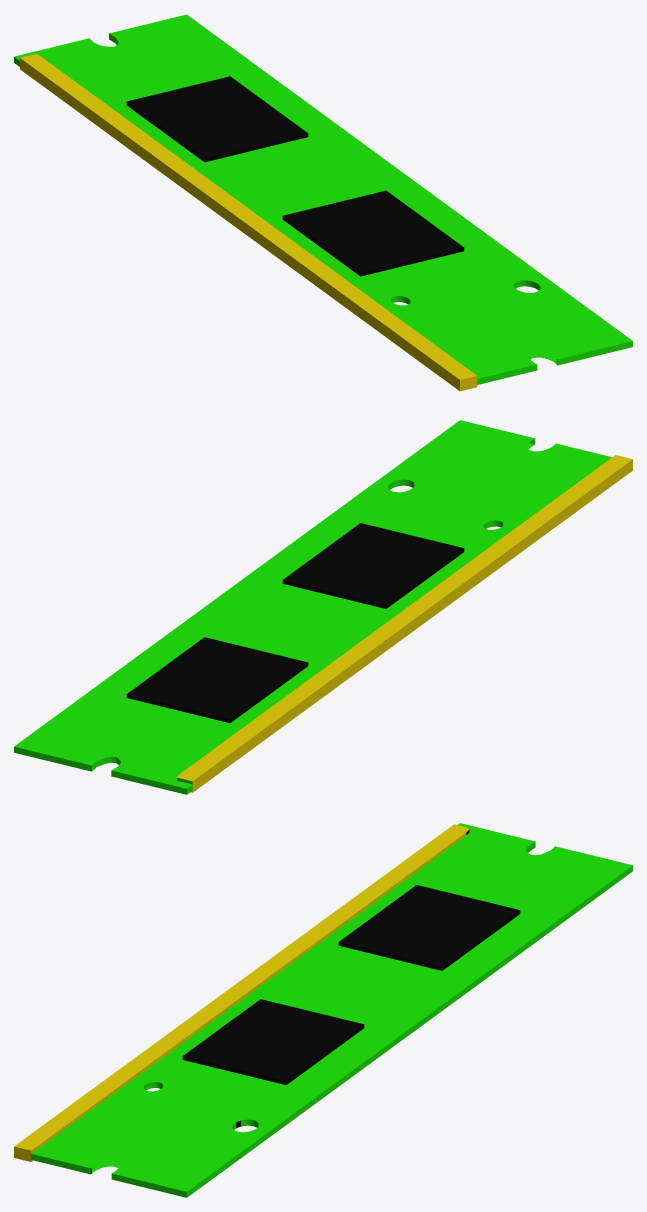
The model's file is ram_Scene.fbx.
3 views of the same model, one above another, from view 1: azimuth 30°, elevation 25°; view 2: azimuth 150°, elevation 25°; view 3: azimuth 330°, elevation 25° (orthographic).
Parts seen in each view (by area): view 1: Cube.018; view 2: Cube.018; view 3: Cube.018.
Part boxes in pixels (x1,y1,x2,y2): Cube.018: [14, 14, 632, 391]; Cube.018: [14, 420, 632, 794]; Cube.018: [14, 823, 632, 1197].
Bounding box in the file's own units: 18 × 1.2 × 80.45.
